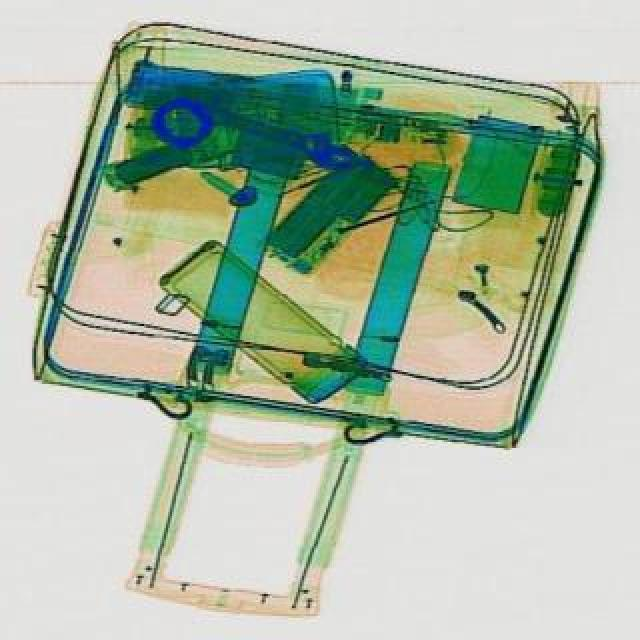scissors: (182, 86, 360, 174)
